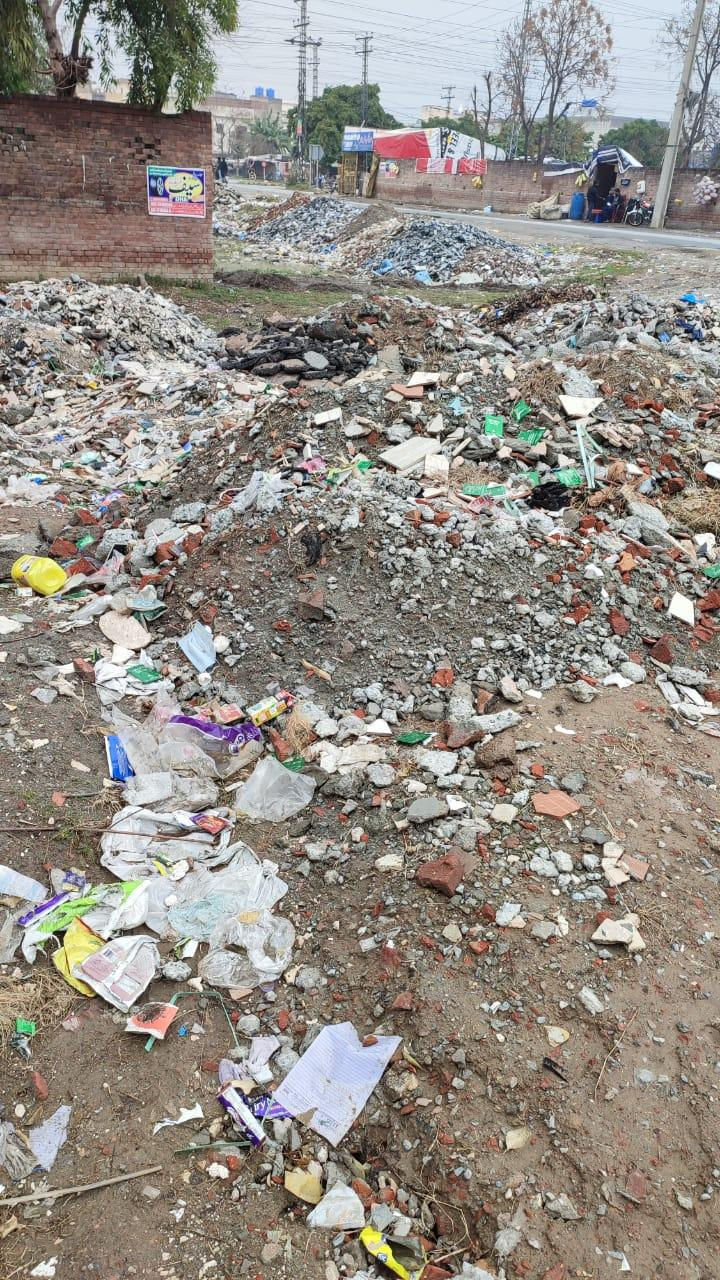garbage: (16, 530, 457, 1280), (288, 255, 720, 687)
